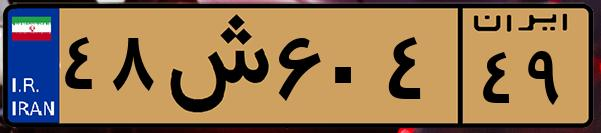0: (330, 28, 385, 110)
4: (385, 28, 445, 110), (57, 26, 110, 100), (475, 38, 525, 113)
6: (270, 28, 330, 110)
8: (110, 28, 158, 98)
9: (525, 38, 570, 115)
ش: (158, 12, 270, 120)
